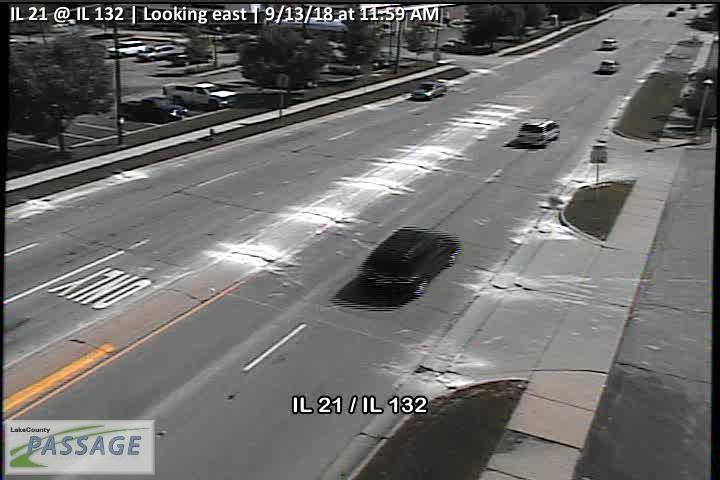SUV: (362, 226, 460, 298), (518, 119, 560, 147), (105, 40, 147, 59), (138, 44, 176, 63), (599, 36, 620, 50), (598, 58, 617, 73)
Sedan: (412, 81, 446, 102)
Truck: (164, 81, 236, 109), (117, 95, 185, 124)
